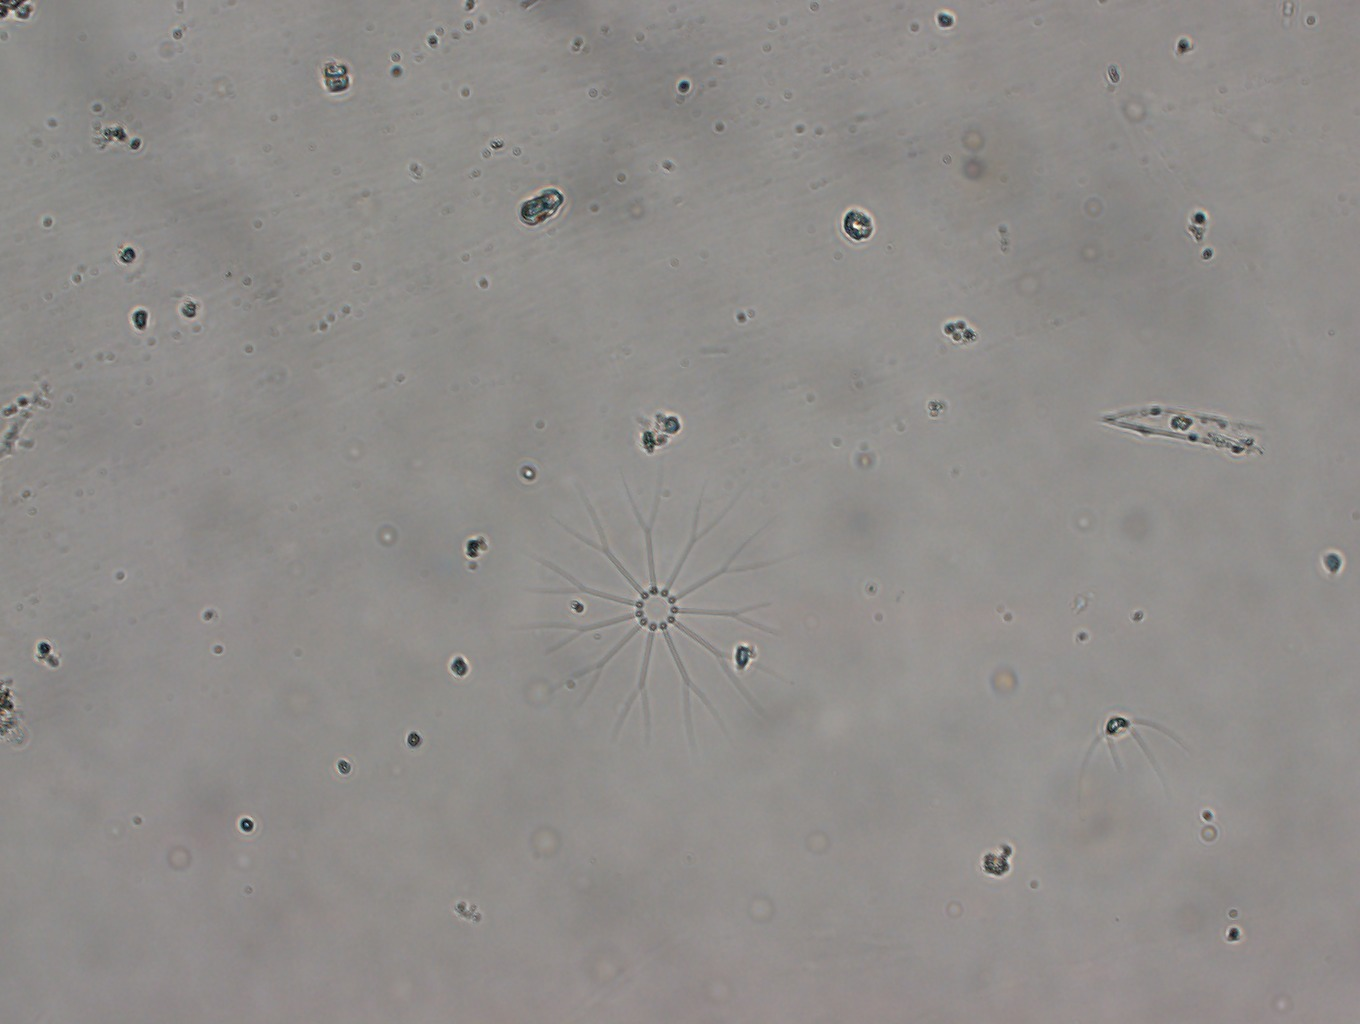bacteriastrum: (511, 468, 799, 765)
